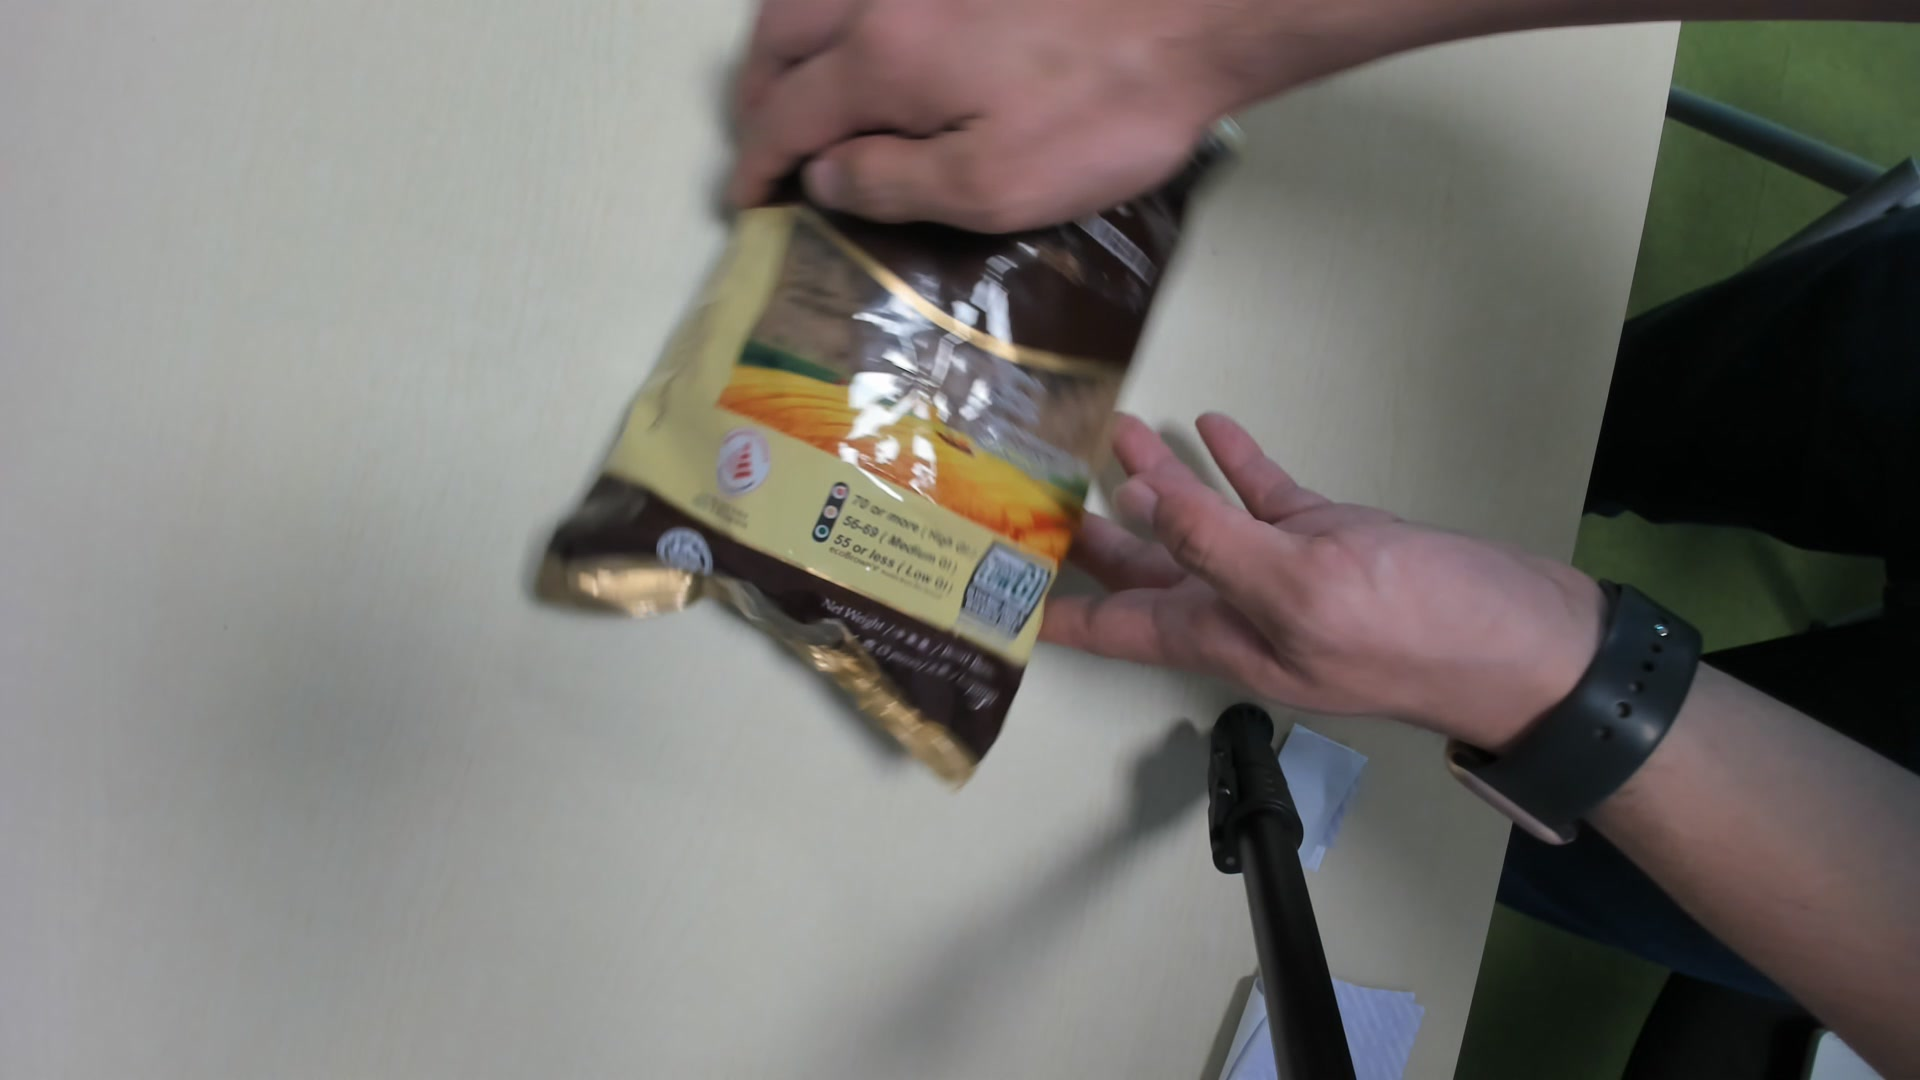BeeHoonVermicelli_300-399g_Halal_Healthy: (555, 109, 1222, 766)
